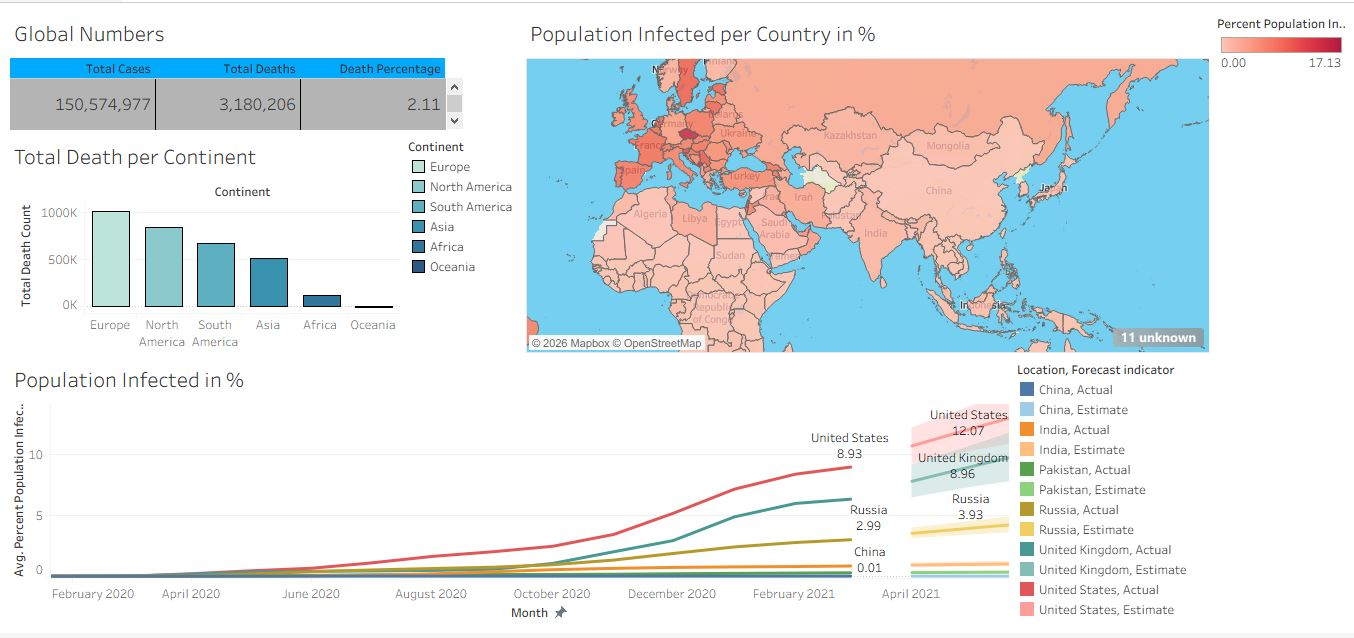

Layout of this report page (visuals, bound fields, positions):
{"tool":"tableau","page":{"name":"Dashboard 1","canvas":[1000,1000],"units":"permille","ordinal":0},"visuals":[{"type":"worksheet","title":"Sheet 1","mark":"Automatic","box":[5.9,12.7,379.1,195.5]},{"type":"worksheet","title":"Sheet 3","mark":"Automatic","box":[384.9,12.7,508.6,549.2]},{"type":"legend","title":"Sheet 3","param":"[federated.19s2nqc12jux581ahao030wbjrch].[sum:PercentPopulationInfected:qk]","box":[893.5,12.7,100.6,974.6]},{"type":"worksheet","title":"Sheet 2","mark":"Automatic","rows":["TotalDeathCount"],"cols":["location"],"box":[5.9,208.2,293,353.7]},{"type":"legend","title":"Sheet 2","param":"[federated.1snkkzb1k7b7s219ldq4q0ovhizx].[none:location:nk]","box":[298.9,208.2,86.1,353.7]},{"type":"worksheet","title":"Sheet 4","mark":"Automatic","rows":["PercentPopulationInfected"],"cols":["date"],"box":[5.9,561.9,740.6,425.4]},{"type":"legend","title":"Sheet 4","param":"[federated.0nrzaw712wceod102ts9u0sw8ygx].[none:Location:nk]\n[federated.0nrzaw712","box":[746.5,561.9,147,425.4]}]}

Visuals, with their boxes on the dashboard's canvas, which has no fixed pixel size, in thousandths of its width and height (x1, y1, x2, y2). These are canvas units, not pixel positions in the 1354x638 screenshot, which may show the page scaled, cropped or inside an application window:
"Sheet 1" worksheet: (6,13,385,208)
"Sheet 3" worksheet: (385,13,894,562)
"Sheet 3" legend: (894,13,994,987)
"Sheet 2" worksheet: (6,208,299,562)
"Sheet 2" legend: (299,208,385,562)
"Sheet 4" worksheet: (6,562,746,987)
"Sheet 4" legend: (746,562,894,987)
